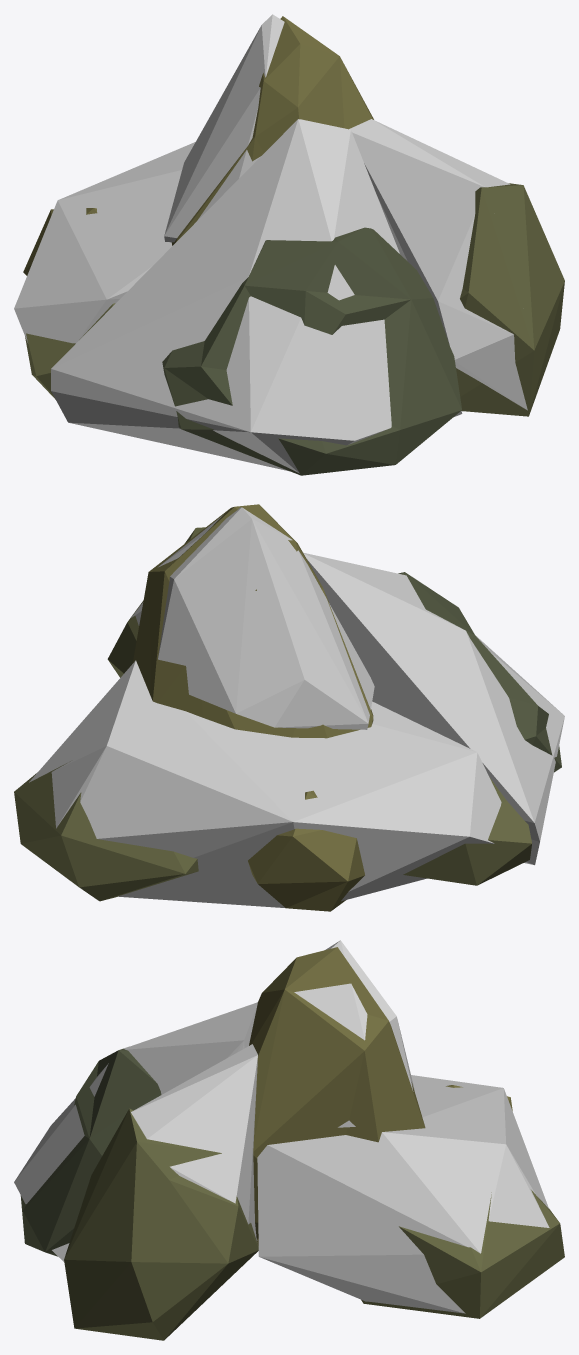
Rendered from SM_Env_Bushes_01.fbx.
3 views of the same model, one above another, from view 1: azimuth 30°, elevation 25°; view 2: azimuth 150°, elevation 25°; view 3: azimuth 270°, elevation 25° (orthographic). The views are drawn at different scales.
Parts seen in each view (by area): view 1: SM_Env_Bushes_01_ConvexHulls, SM_Env_Bushes_01; view 2: SM_Env_Bushes_01_ConvexHulls, SM_Env_Bushes_01; view 3: SM_Env_Bushes_01, SM_Env_Bushes_01_ConvexHulls.
Part boxes in pixels (x1,y1,x2,y2): SM_Env_Bushes_01_ConvexHulls: (14,14,527,473); SM_Env_Bushes_01: (23,16,564,475); SM_Env_Bushes_01_ConvexHulls: (29,507,564,907); SM_Env_Bushes_01: (14,504,561,911); SM_Env_Bushes_01: (20,947,564,1340); SM_Env_Bushes_01_ConvexHulls: (14,940,549,1313).
Size of the model in its own units: 419 by 448 by 307.
2 materials, 1 textured.
